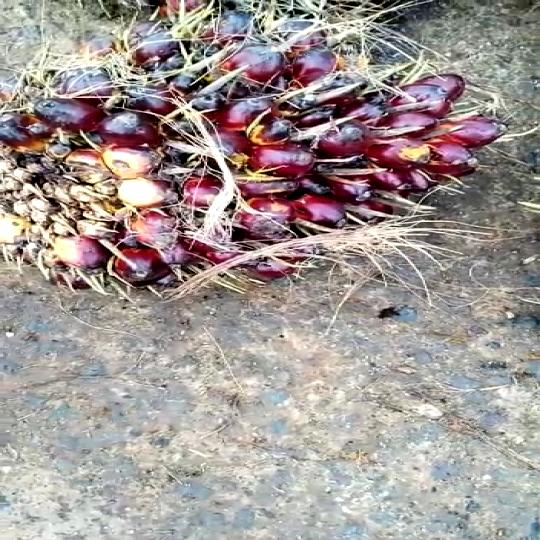kurang masak: (0, 20, 523, 307)
